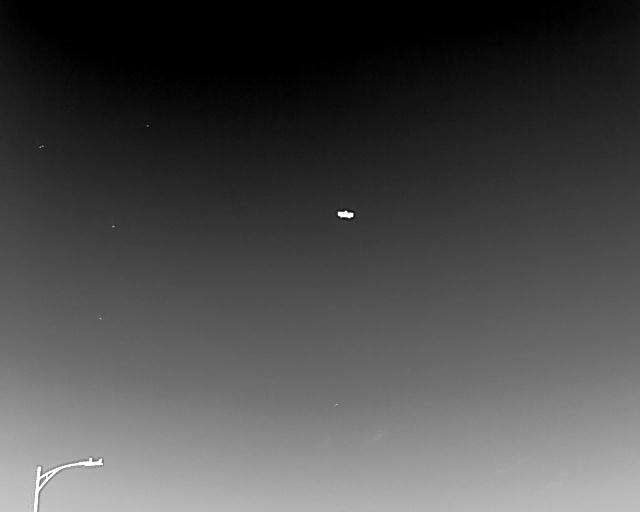fpv-drone: (337, 210, 354, 219)
